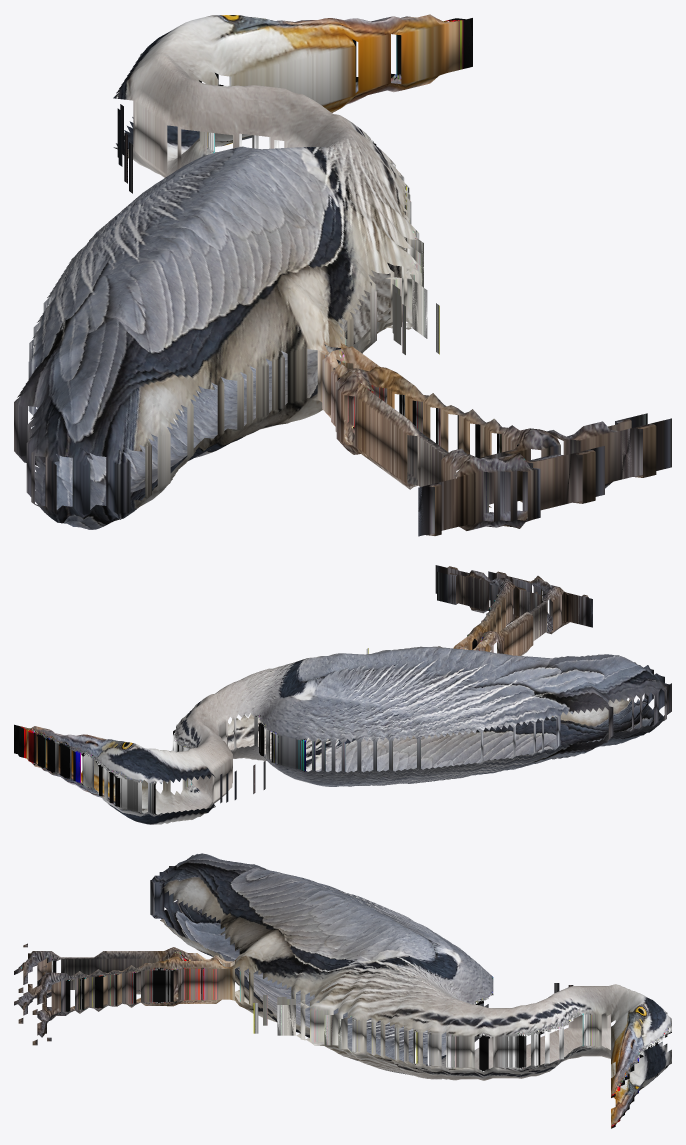
Rendered from heron.glb.
3 renders of one model, top to bottom at view 1: azimuth 30°, elevation 25°; view 2: azimuth 150°, elevation 25°; view 3: azimuth 270°, elevation 25°, orthographic. The views are drawn at different scales.
Visible parts, largest first — view 1: heron_obj; view 2: heron_obj; view 3: heron_obj.
Part boxes in pixels (<box>): heron_obj: <box>14,14,671,536</box>; heron_obj: <box>14,565,671,824</box>; heron_obj: <box>14,853,671,1128</box>.
Bounding box in the file's own units: 1.59 × 0.44 × 1.87.
1 material, 1 textured.
